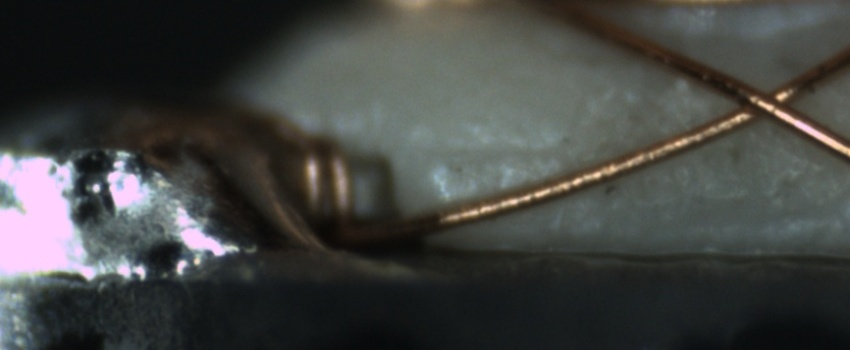CL: (710, 66, 815, 136)
DL: (424, 120, 583, 184)
TE: (287, 122, 363, 247)
